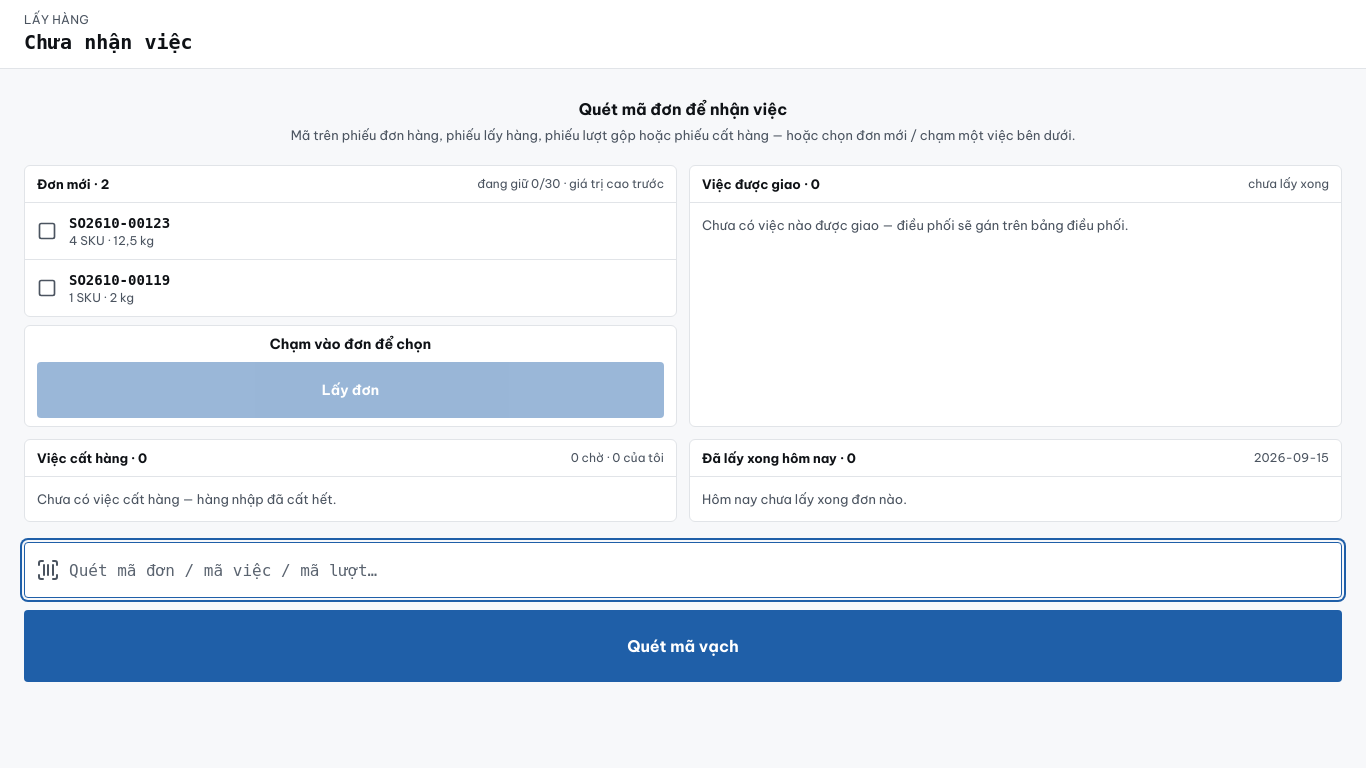
Test: /pda/pick — cột Đơn mới › 409 PDA_NEW_ORDERS_TAKEN → báo mã đơn, bỏ chọn hết, tải lại danh sách
Click the checkbox labelled "SO2610-00123 4 SKU · 12,5 kg" at (120, 223), box [25, 203, 676, 259]
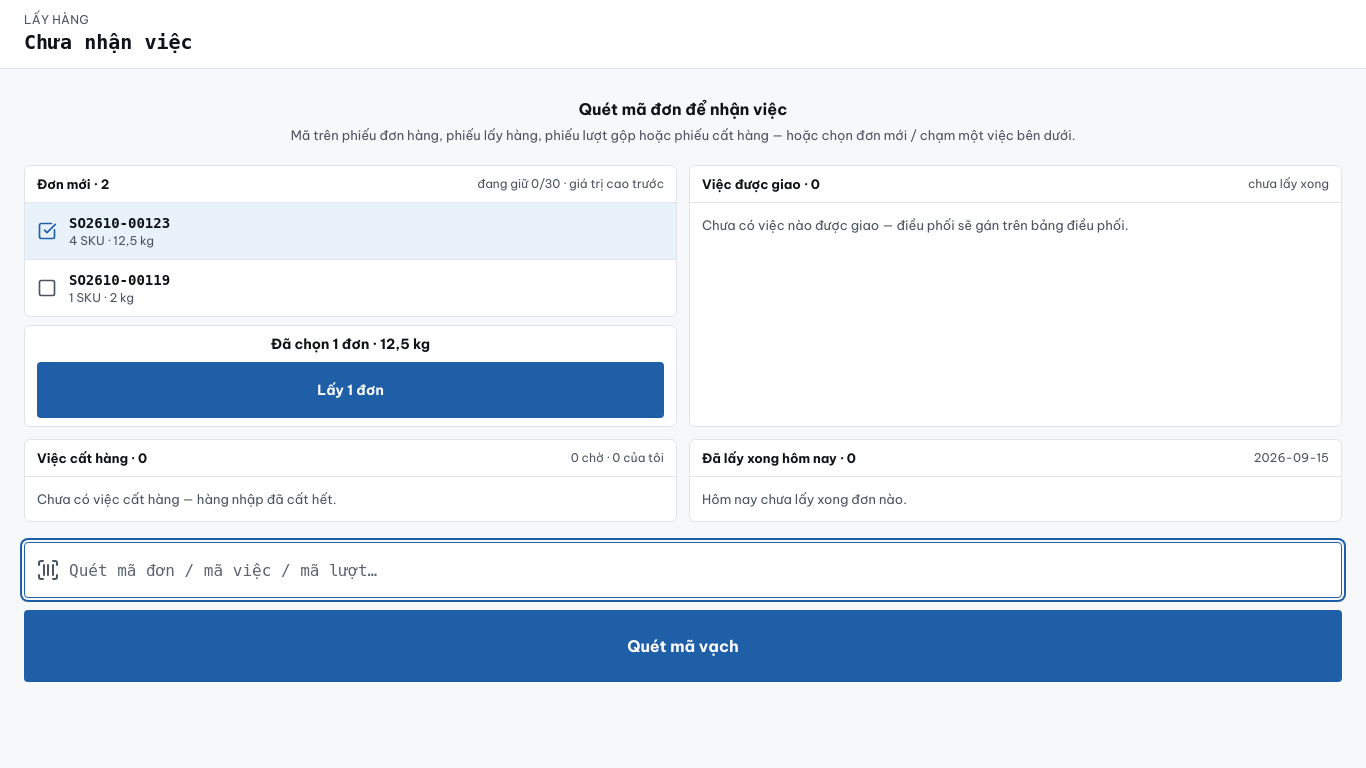
Click the button "Lấy 1 đơn" at (350, 390), box [37, 362, 664, 418]
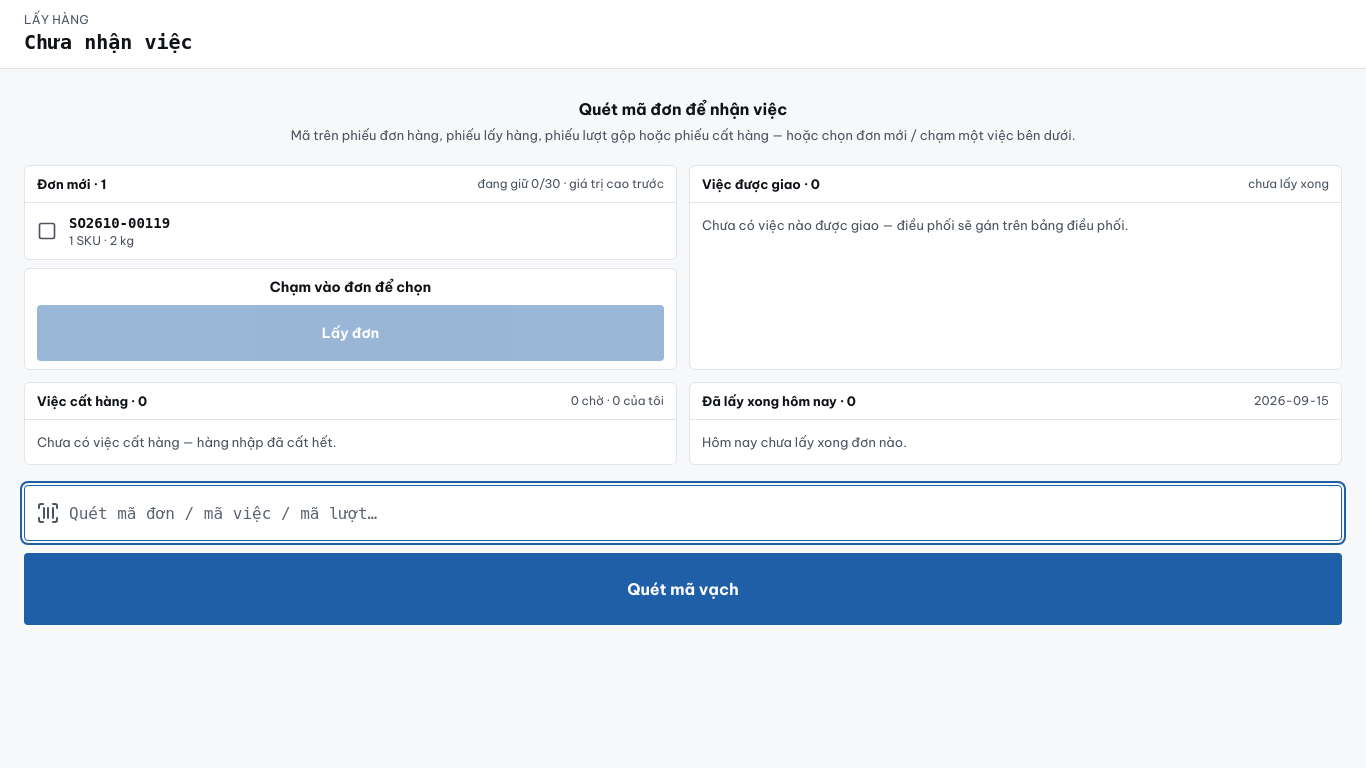
Expected: the checkbox "SO2610-00123" is gone
Expected: the text with test id "new-orders-total" reads "Chạm vào đơn để chọn", [270, 278, 431, 296]
